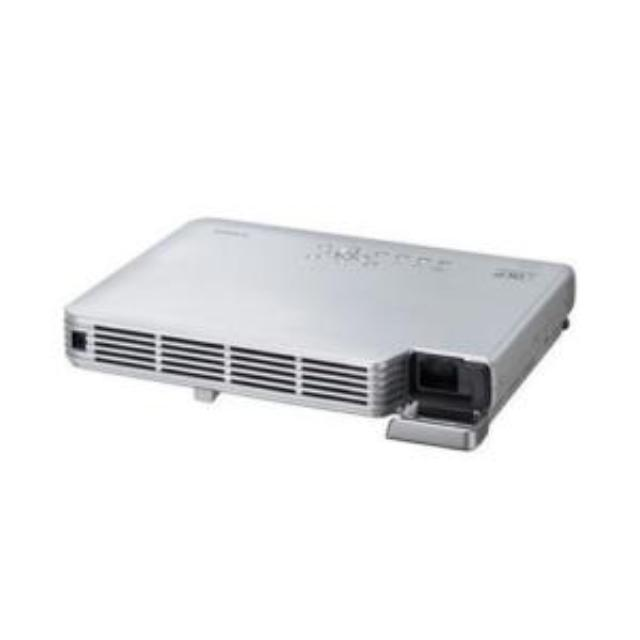Projector: (64, 216, 578, 457)
